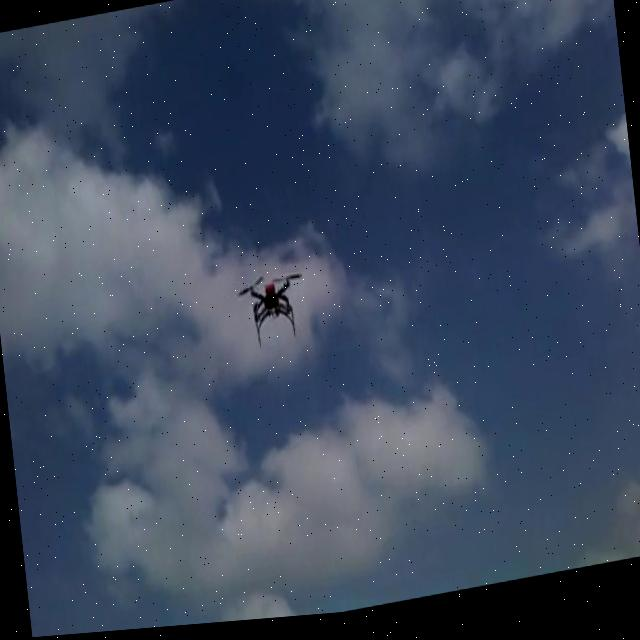drone: (233, 268, 308, 353)
